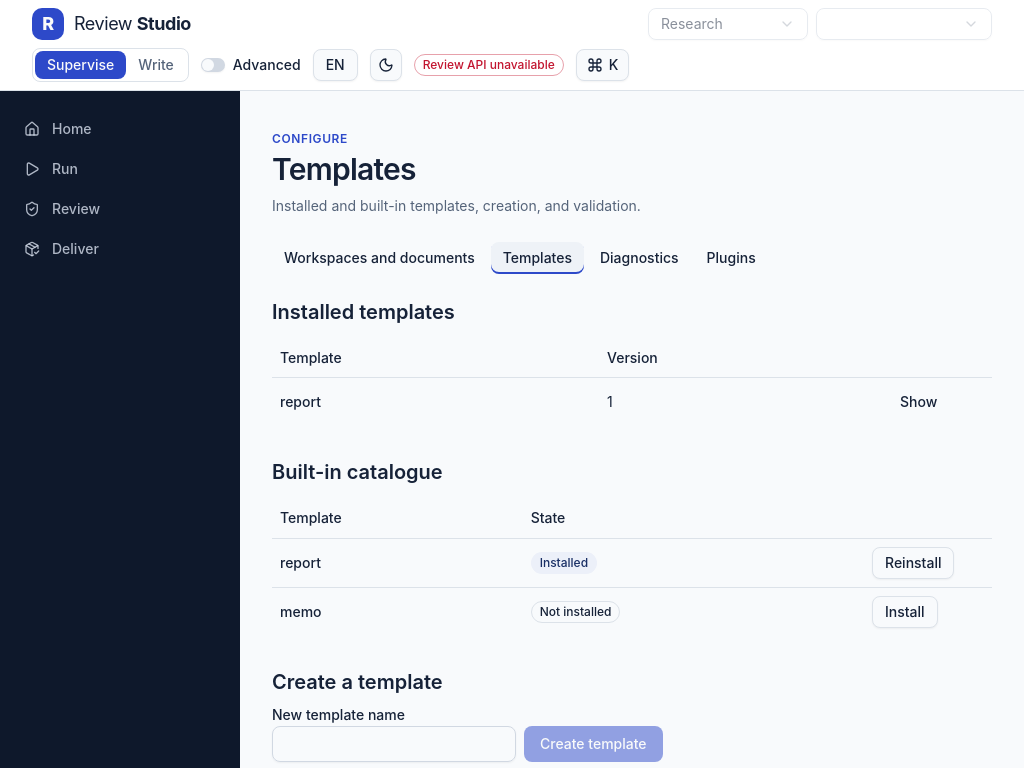
Test: template editor › creates a new empty template skeleton
Type "fresh" into the field labelled "New template name" at (394, 744), box left=272, top=726, right=516, bottom=762
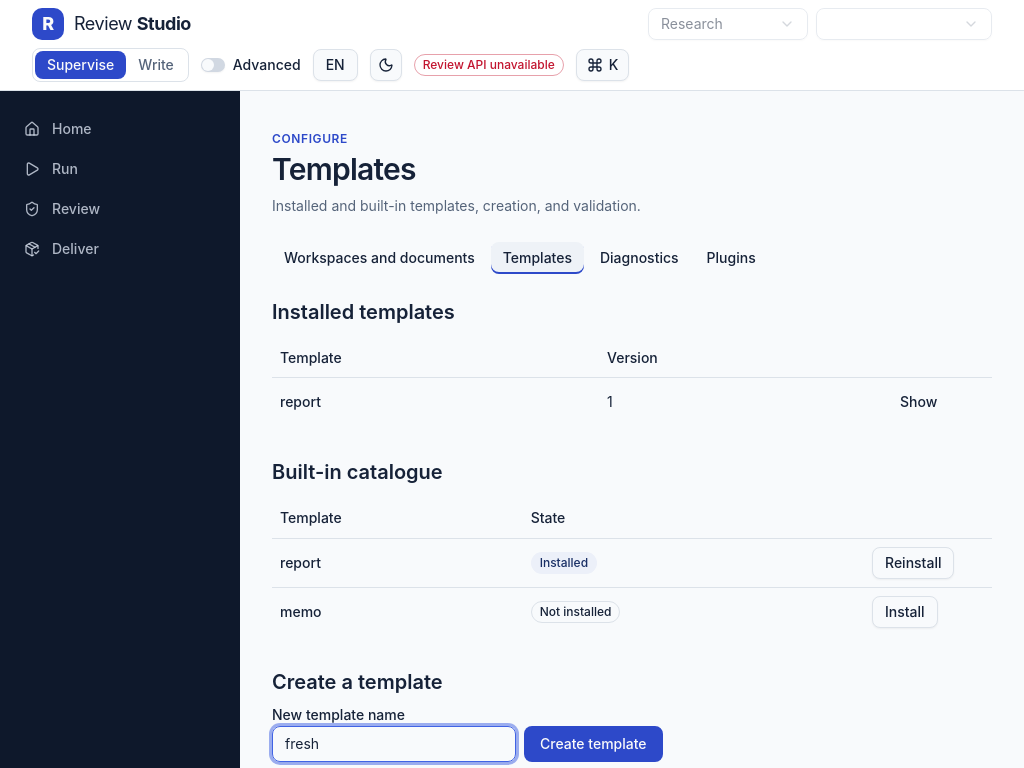
Click the button "Create template" at (593, 744), box left=524, top=726, right=663, bottom=762
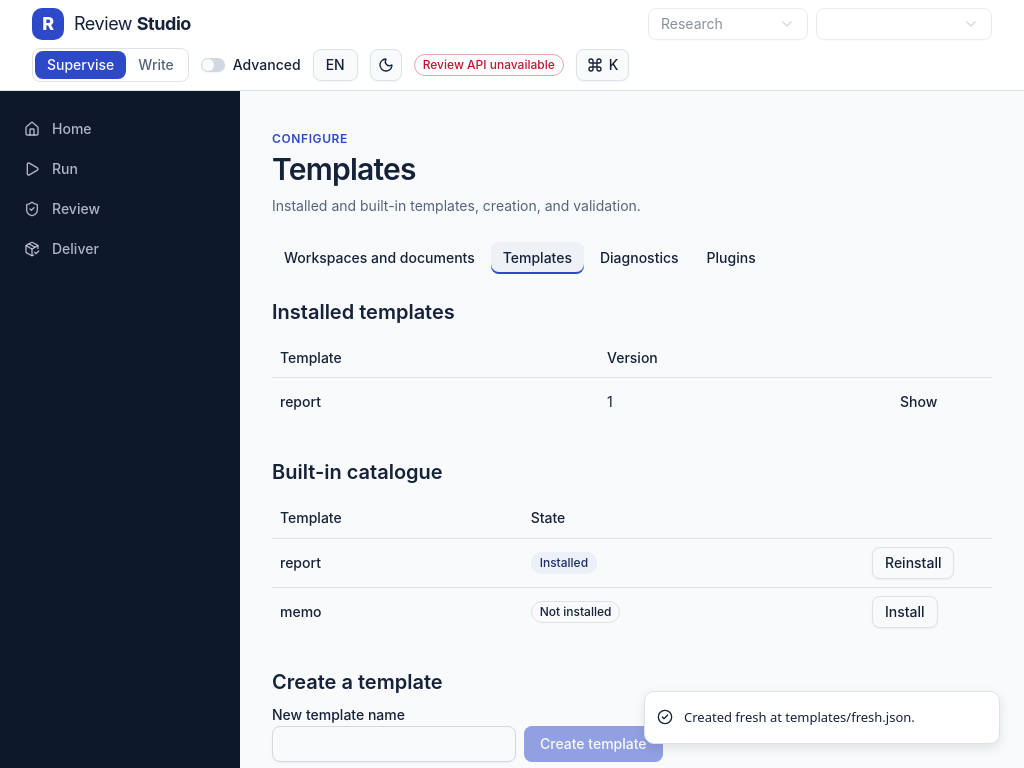
Expected: the text "Created fresh at templates/fresh.json." is shown, left=684, top=708, right=915, bottom=727
